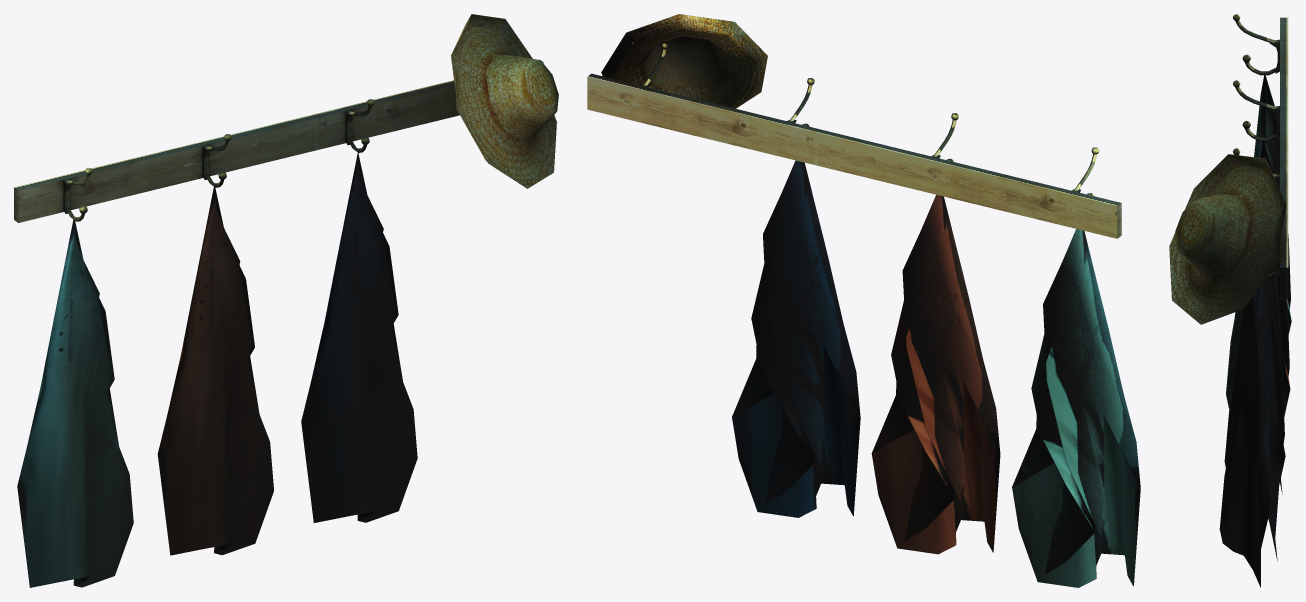
The model's file is Veshalka.obj.
The picture shows the model from 3 angles, left to right: view 1: azimuth 30°, elevation 25°; view 2: azimuth 150°, elevation 25°; view 3: azimuth 270°, elevation 25°; orthographic projection. The views are drawn at different scales.
Parts seen in each view (by area): view 1: veshalka.1; view 2: veshalka.1; view 3: veshalka.1.
Boxes of the visible parts, x1=… form: veshalka.1: x1=14, y1=14, x2=558, y2=587; veshalka.1: x1=587, y1=14, x2=1140, y2=587; veshalka.1: x1=1169, y1=14, x2=1291, y2=587.
Size of the model in its own units: 1.52 by 1.29 by 0.3088.
